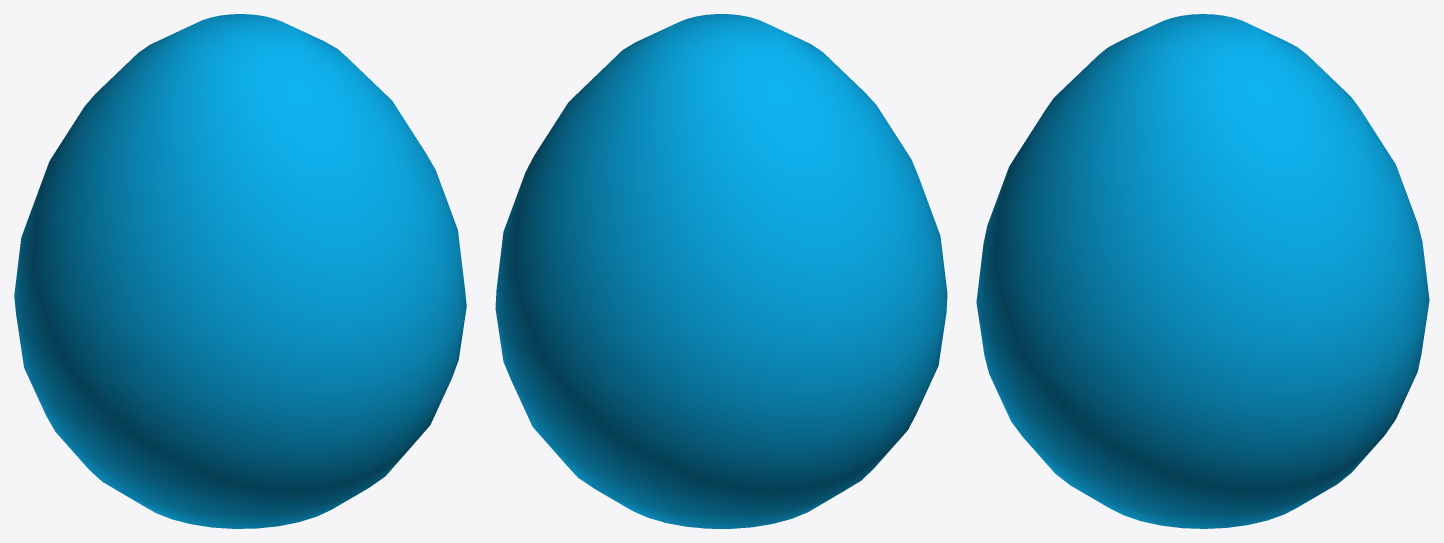
The model's file is Blue Egg.gltf.
The picture shows the model from 3 angles, left to right: view 1: azimuth 30°, elevation 25°; view 2: azimuth 150°, elevation 25°; view 3: azimuth 270°, elevation 25°; orthographic projection.
Parts seen in each view (by area): view 1: EGG; view 2: EGG; view 3: EGG.
Boxes of the visible parts, left/top/right/bottom form: EGG: left=14, top=14, right=466, bottom=528; EGG: left=495, top=14, right=947, bottom=528; EGG: left=976, top=14, right=1429, bottom=528.
Bounding box in the file's own units: 1.91 × 2.22 × 1.91.
1 material, 1 textured.
